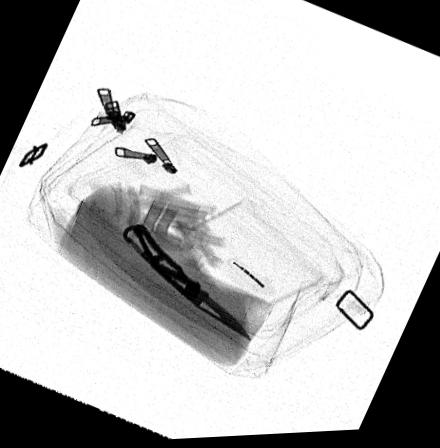Knife: (121, 224, 253, 345)
